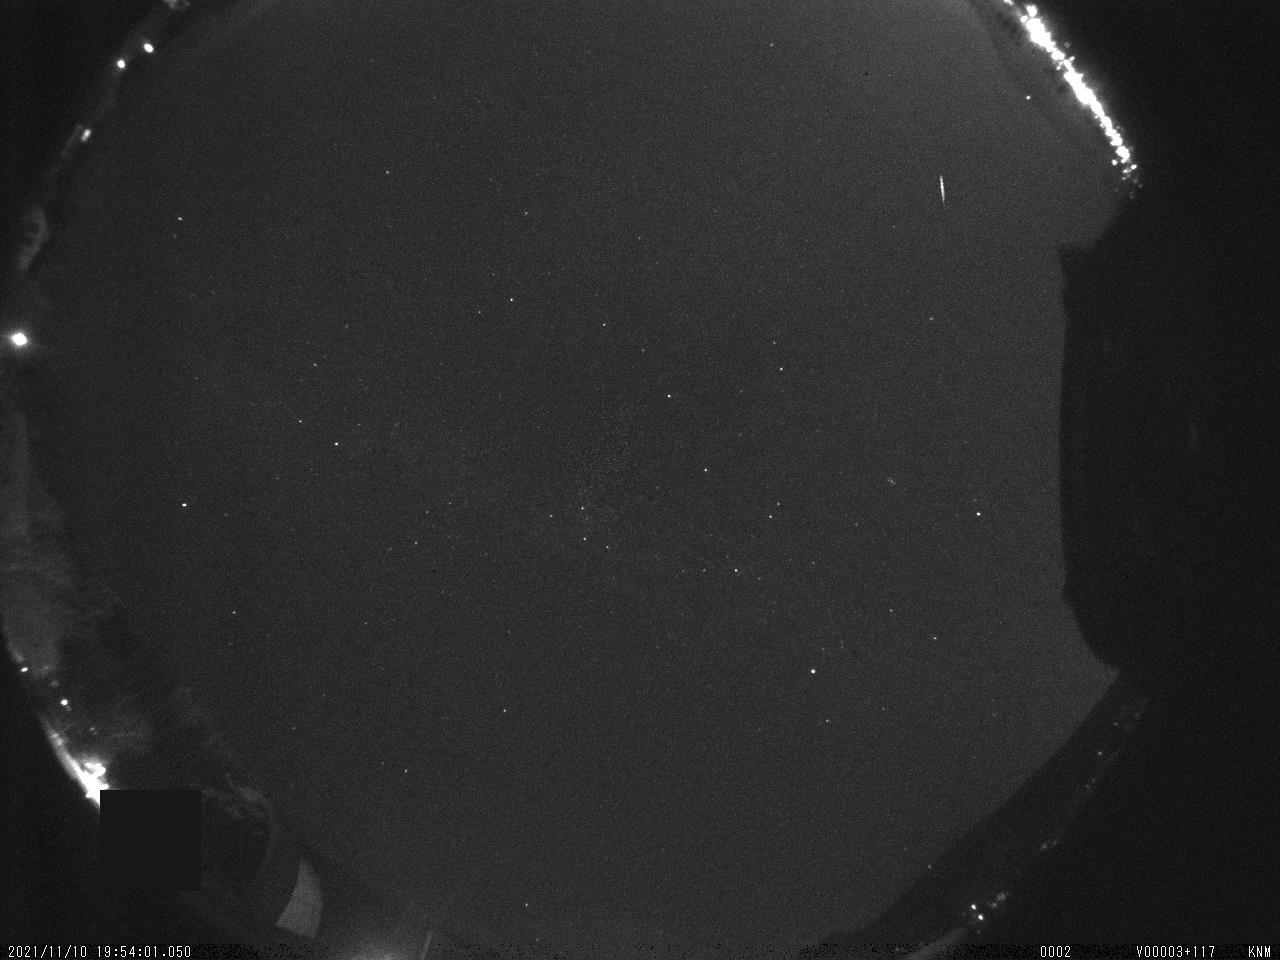meteor: (928, 163, 964, 234)
